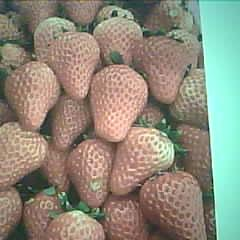straw-ripe: (141, 172, 208, 240), (92, 63, 148, 142), (113, 130, 173, 194), (6, 62, 59, 131), (50, 32, 100, 98)
